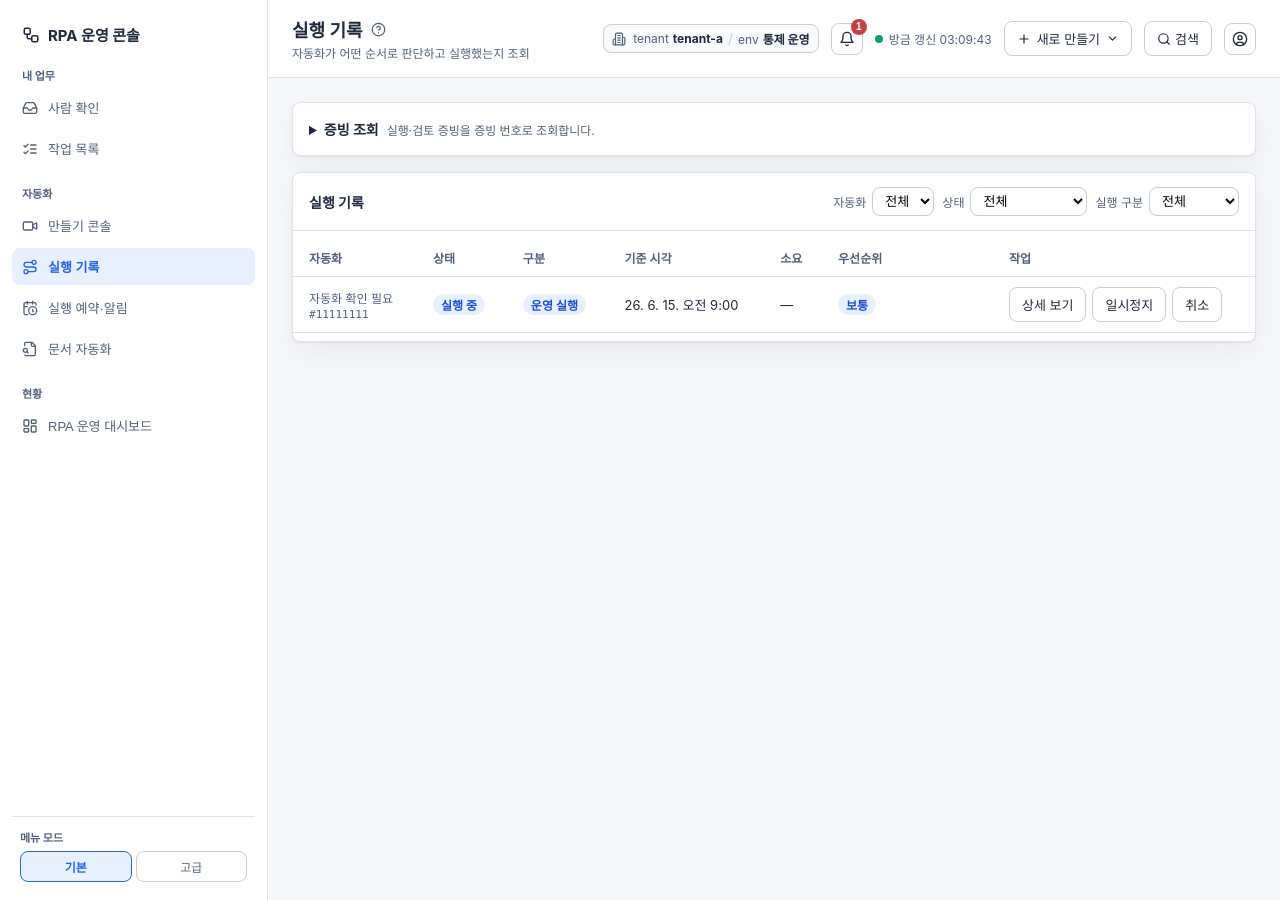
Test: D7 운영 콘솔 a11y (axe) › 확인 다이얼로그 열림 시 axe 위반 없음 (role=dialog)
This screenshot has width=1280, height=900.
Step 1. Click the button "취소" → (1197, 304), box [1172,287,1222,322]
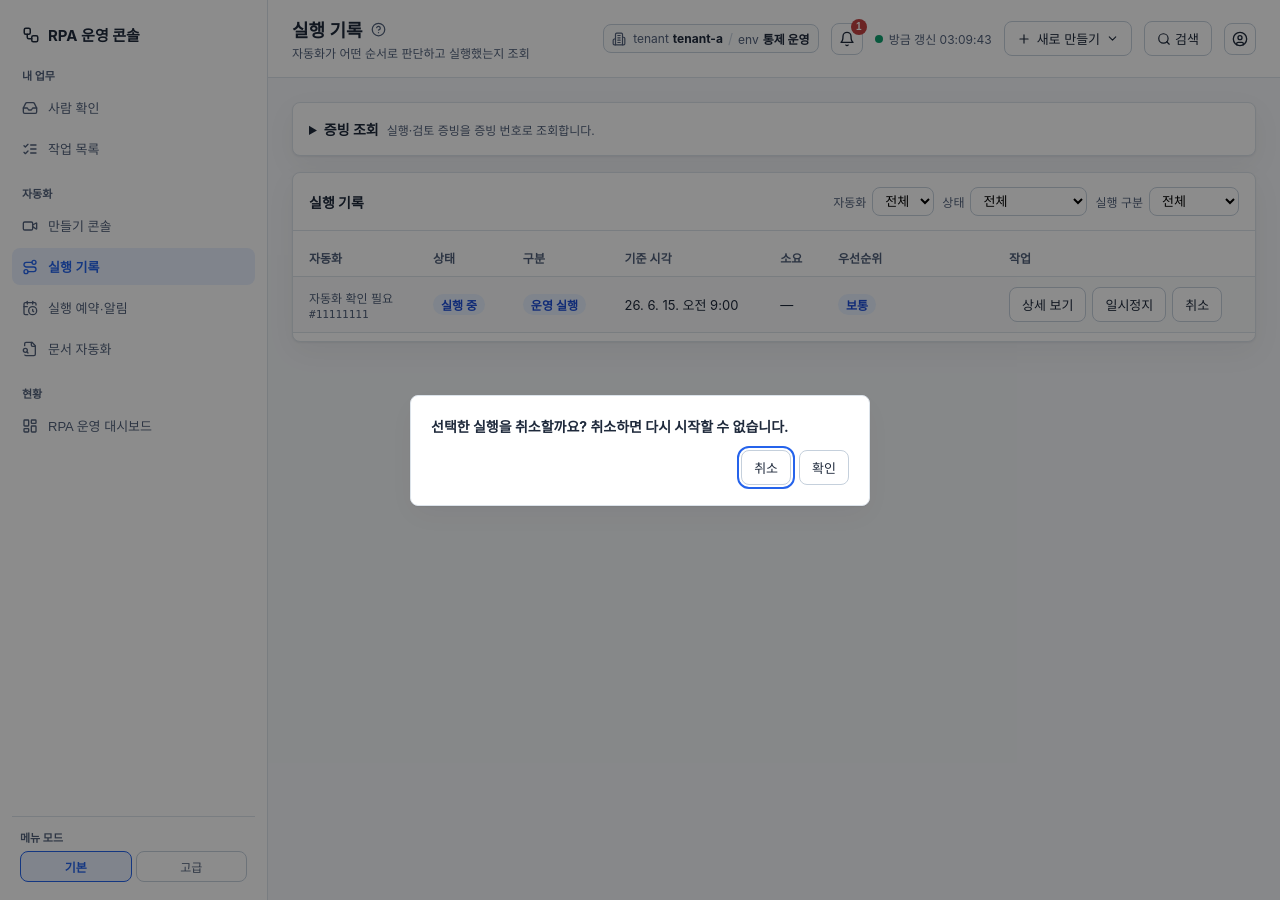
Result: the dialog is shown at [410,394,870,506]
